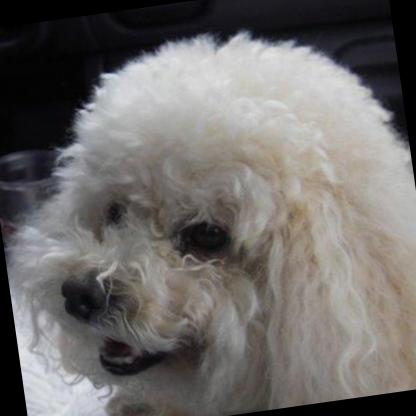toy_poodle: (0, 6, 416, 416)
